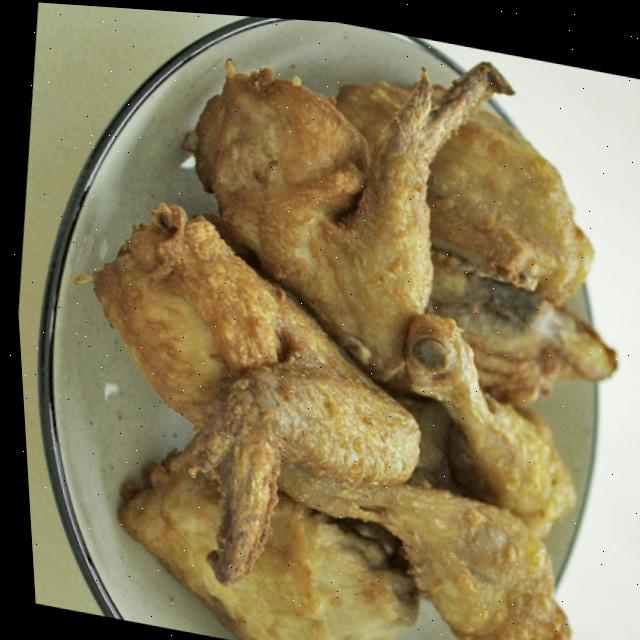鸡肉料理 含炸鸡: (27, 6, 640, 640)
